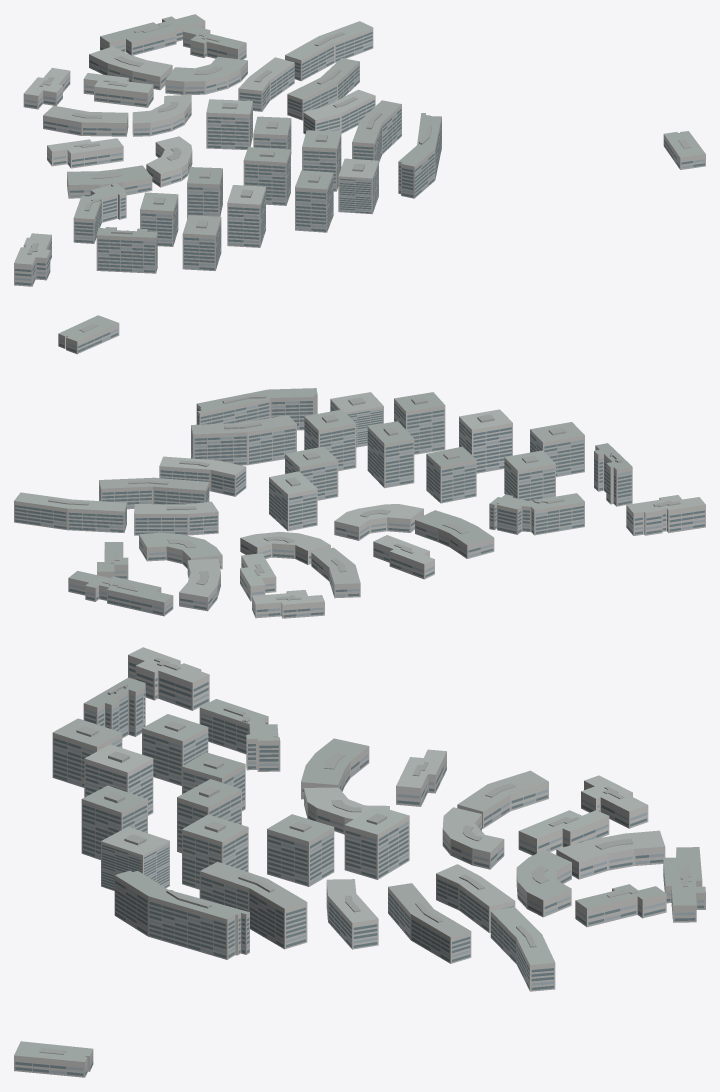
The model's file is apt-a14077902.glb.
The picture shows the model from 3 angles, top to bottom: view 1: azimuth 30°, elevation 25°; view 2: azimuth 150°, elevation 25°; view 3: azimuth 270°, elevation 25°; orthographic projection. The views are drawn at different scales.
Visible parts, largest first — view 1: apt-a14077902; view 2: apt-a14077902; view 3: apt-a14077902.
Boxes of the visible parts, <box> form: apt-a14077902: <box>14,14,705,286</box>; apt-a14077902: <box>14,315,705,618</box>; apt-a14077902: <box>14,647,705,1077</box>.
Bounding box in the file's own units: 527 × 35 × 383.
